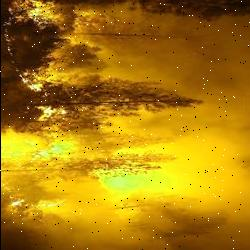fire: (0, 3, 131, 220)
